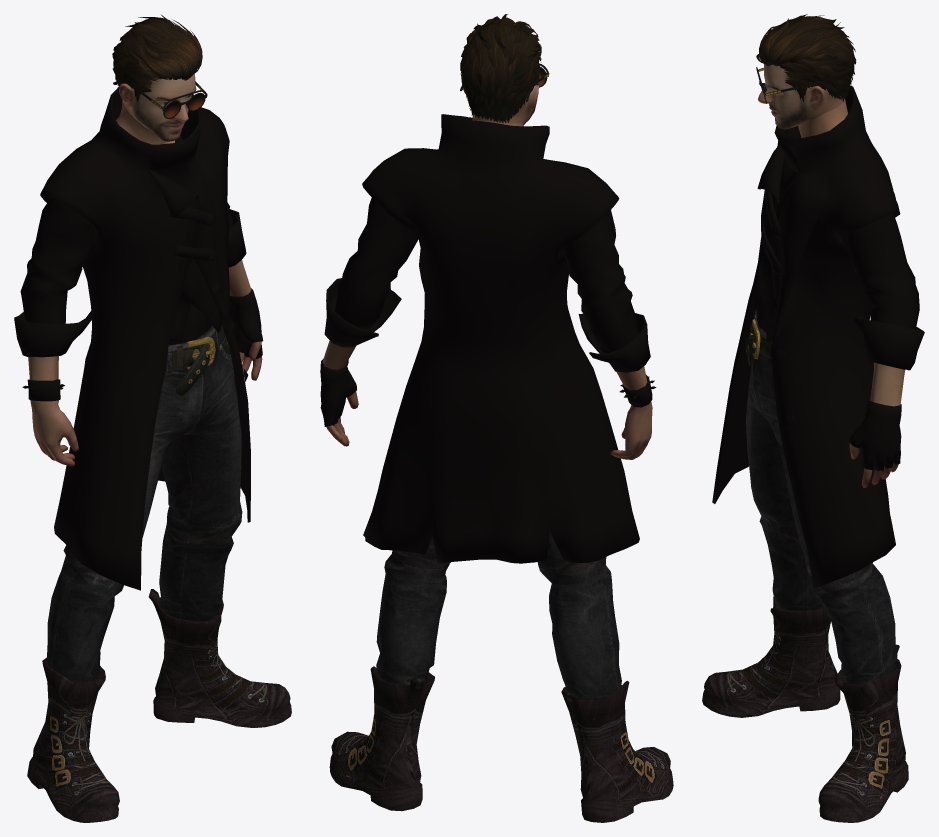
The picture shows the model from 3 angles, left to right: view 1: azimuth 30°, elevation 25°; view 2: azimuth 150°, elevation 25°; view 3: azimuth 270°, elevation 25°; orthographic projection. The views are drawn at different scales.
Visible parts, largest first — view 1: baju_Tex_0081_0.dds_0, celana_Tex_0078_0.dds_0, seaptu_Tex_0075_0.dds_0, kulit_Tex_0084_0.dds_0, rambut_Tex_0091_0.dds_0; view 2: baju_Tex_0081_0.dds_0, seaptu_Tex_0075_0.dds_0, celana_Tex_0078_0.dds_0, rambut_Tex_0091_0.dds_0, kulit_Tex_0084_0.dds_0; view 3: baju_Tex_0081_0.dds_0, seaptu_Tex_0075_0.dds_0, celana_Tex_0078_0.dds_0, rambut_Tex_0091_0.dds_0, kulit_Tex_0084_0.dds_0.
Part boxes in pixels (x1,y1,x2,y2): baju_Tex_0081_0.dds_0: (14, 87, 263, 590); celana_Tex_0078_0.dds_0: (46, 325, 242, 681); seaptu_Tex_0075_0.dds_0: (27, 589, 291, 822); kulit_Tex_0084_0.dds_0: (28, 74, 262, 466); rambut_Tex_0091_0.dds_0: (112, 14, 202, 101); baju_Tex_0081_0.dds_0: (320, 114, 656, 563); seaptu_Tex_0075_0.dds_0: (329, 666, 673, 822); celana_Tex_0078_0.dds_0: (376, 532, 621, 699); rambut_Tex_0091_0.dds_0: (460, 14, 541, 123); kulit_Tex_0084_0.dds_0: (322, 62, 652, 777); baju_Tex_0081_0.dds_0: (712, 85, 924, 588); seaptu_Tex_0075_0.dds_0: (702, 596, 908, 822); celana_Tex_0078_0.dds_0: (745, 310, 897, 684); rambut_Tex_0091_0.dds_0: (756, 14, 856, 101); kulit_Tex_0084_0.dds_0: (758, 64, 905, 798).
Size of the model in its own units: 0.3796 by 0.9382 by 0.2563.
Materials: 7 (6 with a texture image).
